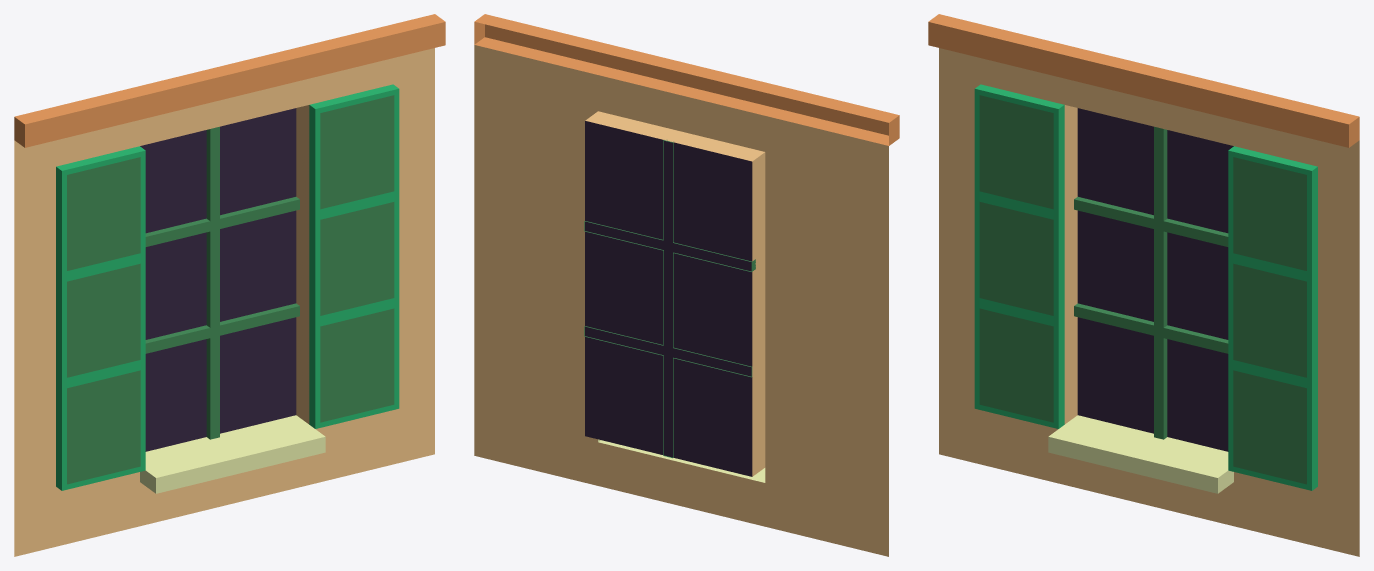
The model's file is WindowOpen 1.fbx.
The picture shows the model from 3 angles, left to right: view 1: azimuth 30°, elevation 25°; view 2: azimuth 150°, elevation 25°; view 3: azimuth 330°, elevation 25°; orthographic projection.
Parts seen in each view (by area): view 1: WindowOpen; view 2: WindowOpen; view 3: WindowOpen.
Boxes of the visible parts, bbox=[...] form: WindowOpen: bbox=[14, 14, 445, 556]; WindowOpen: bbox=[474, 14, 899, 556]; WindowOpen: bbox=[928, 14, 1359, 556].
Bounding box in the file's own units: 200 × 200 × 24.8.
